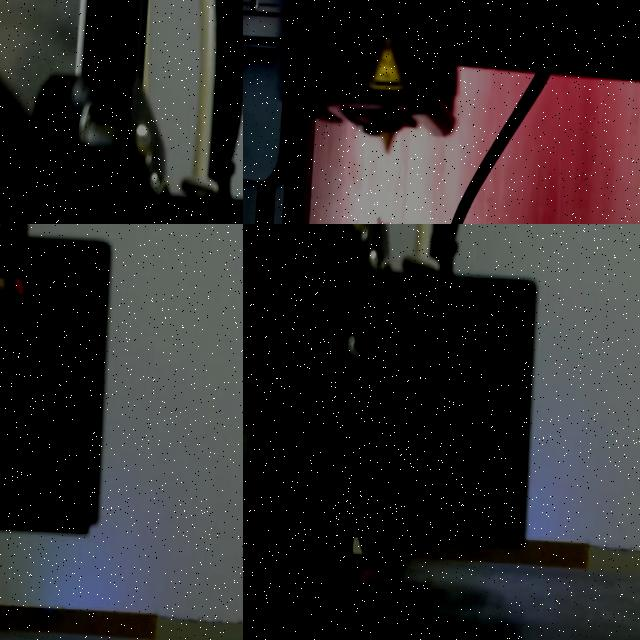spaghetti: (326, 539, 402, 591)
